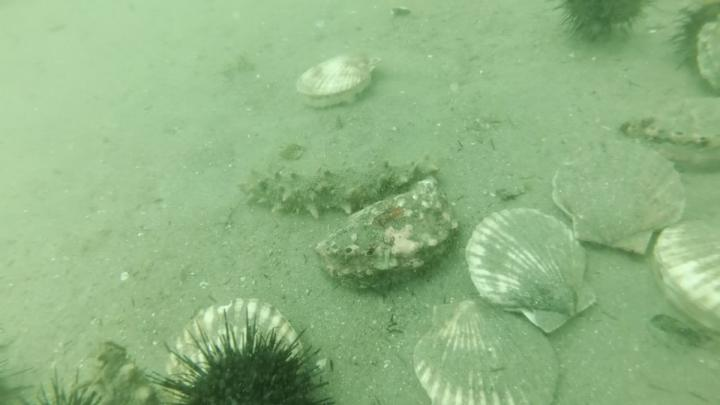echinus: (145, 311, 340, 405), (552, 1, 667, 47), (670, 1, 720, 88), (16, 369, 113, 405)
holothurian: (236, 154, 442, 219)
scallop: (463, 201, 603, 337), (409, 294, 566, 405), (550, 135, 689, 256), (164, 294, 308, 403), (652, 216, 720, 338), (294, 48, 384, 110), (695, 19, 720, 100)
